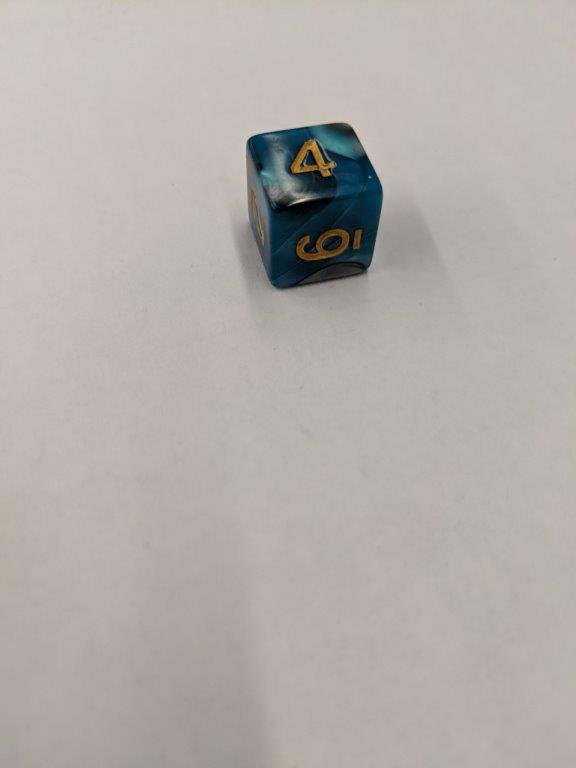d6-4: (243, 121, 383, 290)
